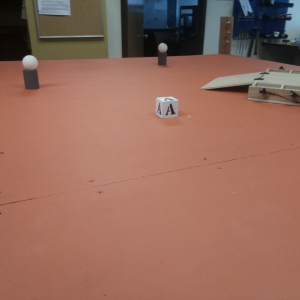obstacle: (20, 56, 42, 91), (156, 41, 172, 66)
side: (250, 86, 300, 107)
slope: (203, 70, 269, 85)
